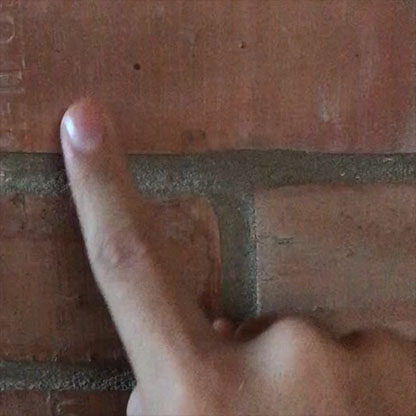fingertip: (56, 87, 123, 167)
